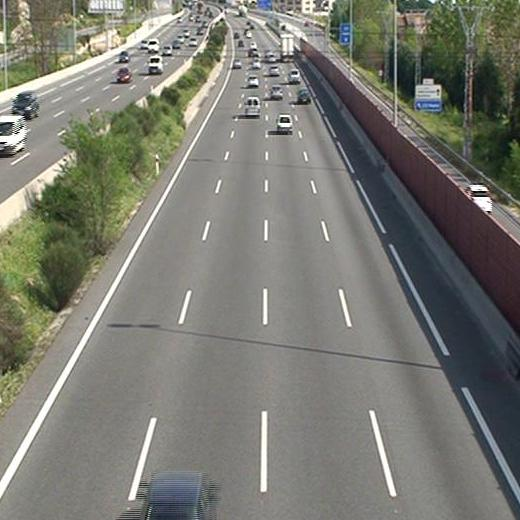car: (278, 115, 294, 132), (298, 89, 311, 105), (289, 68, 301, 84), (271, 85, 283, 99), (247, 74, 259, 87), (268, 64, 279, 77), (232, 58, 243, 68)
truck: (280, 34, 294, 60)
van: (244, 97, 260, 116)
